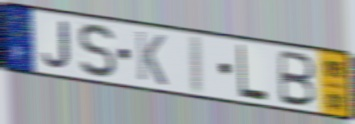B: (278, 48, 317, 109)
I: (189, 33, 206, 97)
J: (40, 20, 73, 71)
K: (134, 28, 169, 88)
L: (237, 42, 269, 104)
S: (77, 22, 117, 80)
